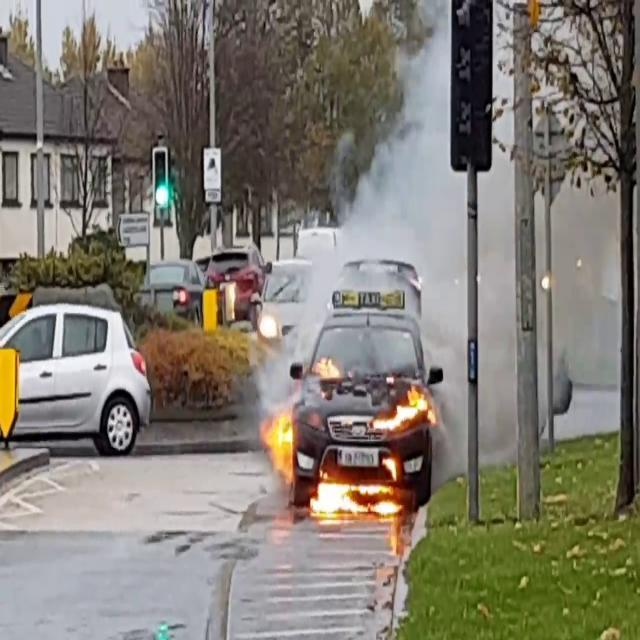Fire: (306, 464, 401, 522), (372, 382, 436, 434), (261, 407, 299, 475)
Smoke: (326, 5, 610, 316)
